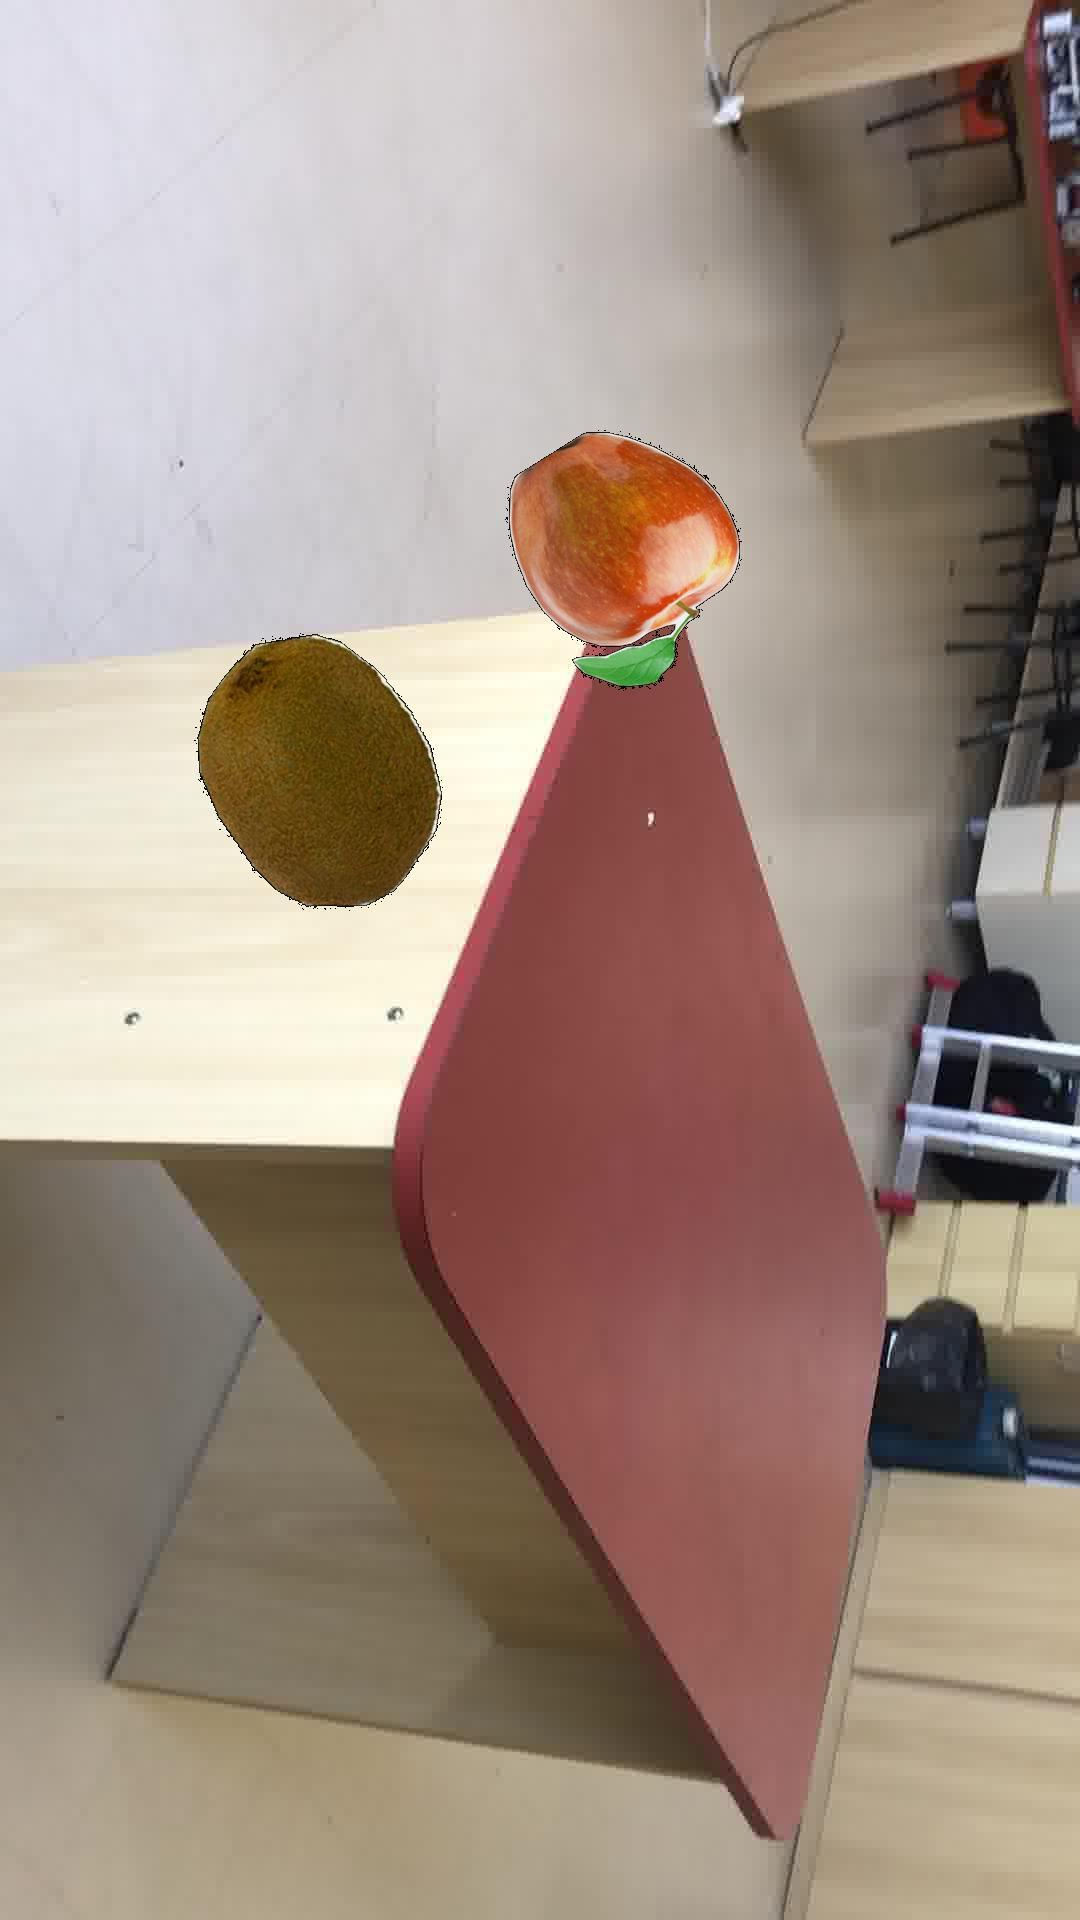apple: (506, 430, 741, 688)
kiwi: (194, 633, 440, 906)
